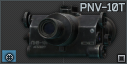PNV-10T Night Vision Goggles: (0, 0, 127, 64)
